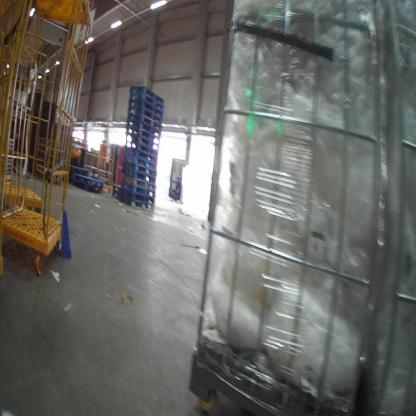pallet: (129, 84, 164, 107), (128, 109, 162, 131), (120, 181, 157, 200), (120, 172, 159, 190), (128, 98, 164, 117), (122, 159, 156, 178), (129, 93, 164, 111), (122, 153, 159, 170), (122, 166, 157, 183), (119, 187, 156, 203), (126, 141, 159, 158), (124, 147, 159, 163), (126, 119, 161, 135), (117, 192, 154, 207), (126, 126, 159, 142), (71, 173, 104, 187), (126, 133, 158, 147), (69, 182, 105, 194), (34, 170, 63, 184), (37, 137, 67, 150), (35, 165, 63, 178), (37, 151, 62, 165), (38, 145, 67, 156), (68, 163, 93, 175), (33, 160, 63, 169)
